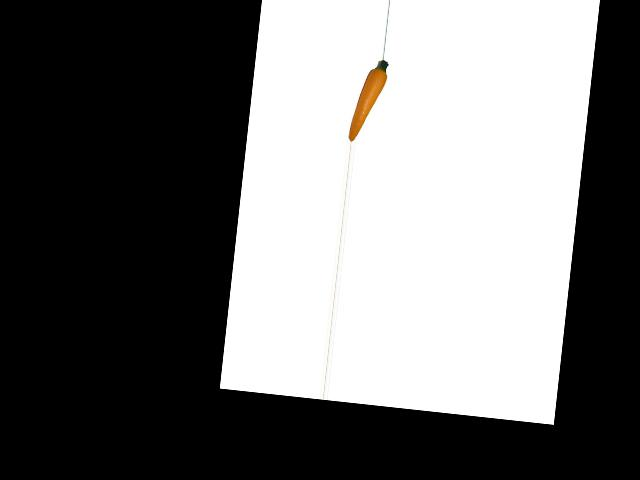carrot: (348, 56, 389, 143)
